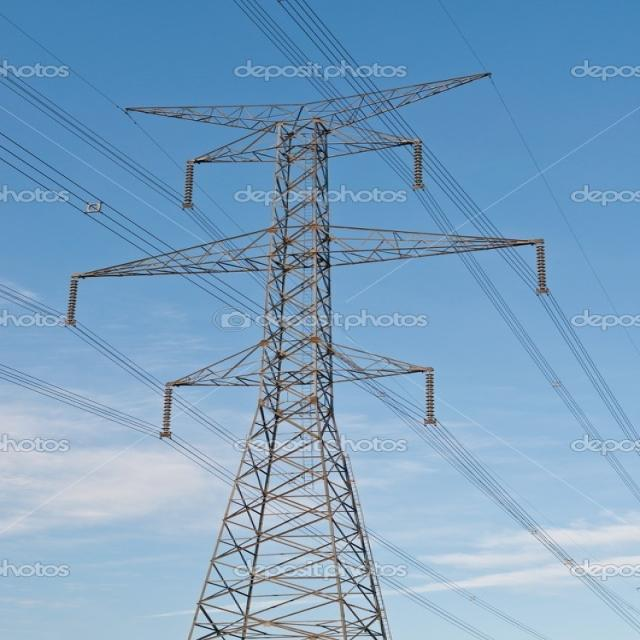non-critical vegetation: (54, 80, 580, 588)
